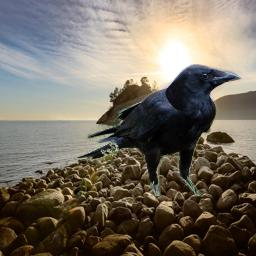Crow: (76, 64, 243, 196)
